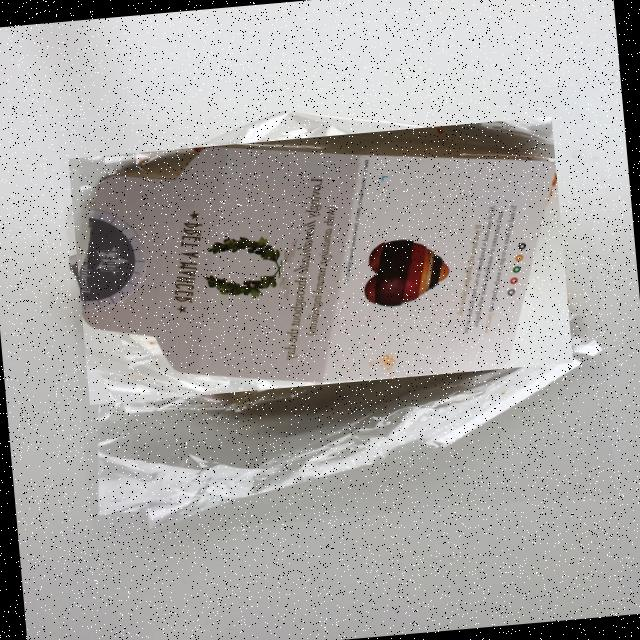Other carton: (83, 147, 556, 384)
Plastic film: (67, 111, 604, 534)
